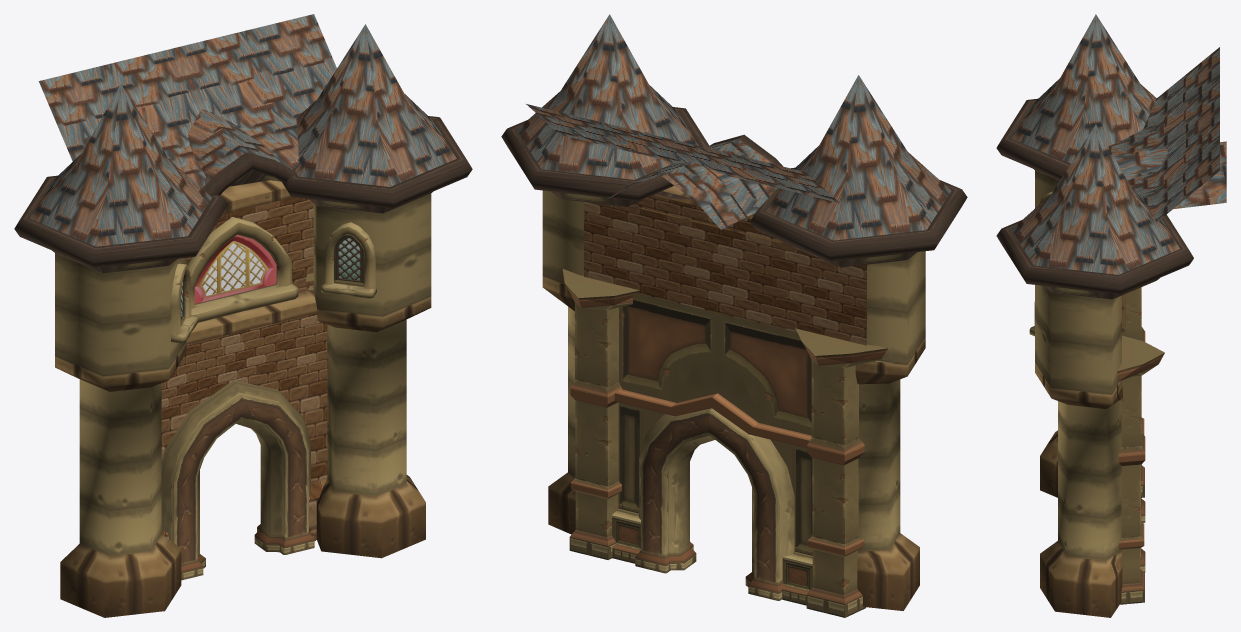
The model's file is external wall.FBX.
The picture shows the model from 3 angles, left to right: view 1: azimuth 30°, elevation 25°; view 2: azimuth 150°, elevation 25°; view 3: azimuth 270°, elevation 25°; orthographic projection. The views are drawn at different scales.
Visible parts, largest first — view 1: external wall; view 2: external wall; view 3: external wall.
Boxes of the visible parts, x1=… form: external wall: x1=14, y1=14, x2=472, y2=617; external wall: x1=501, y1=14, x2=967, y2=617; external wall: x1=996, y1=14, x2=1226, y2=617.
Bounding box in the file's own units: 1632 × 1856 × 820.
